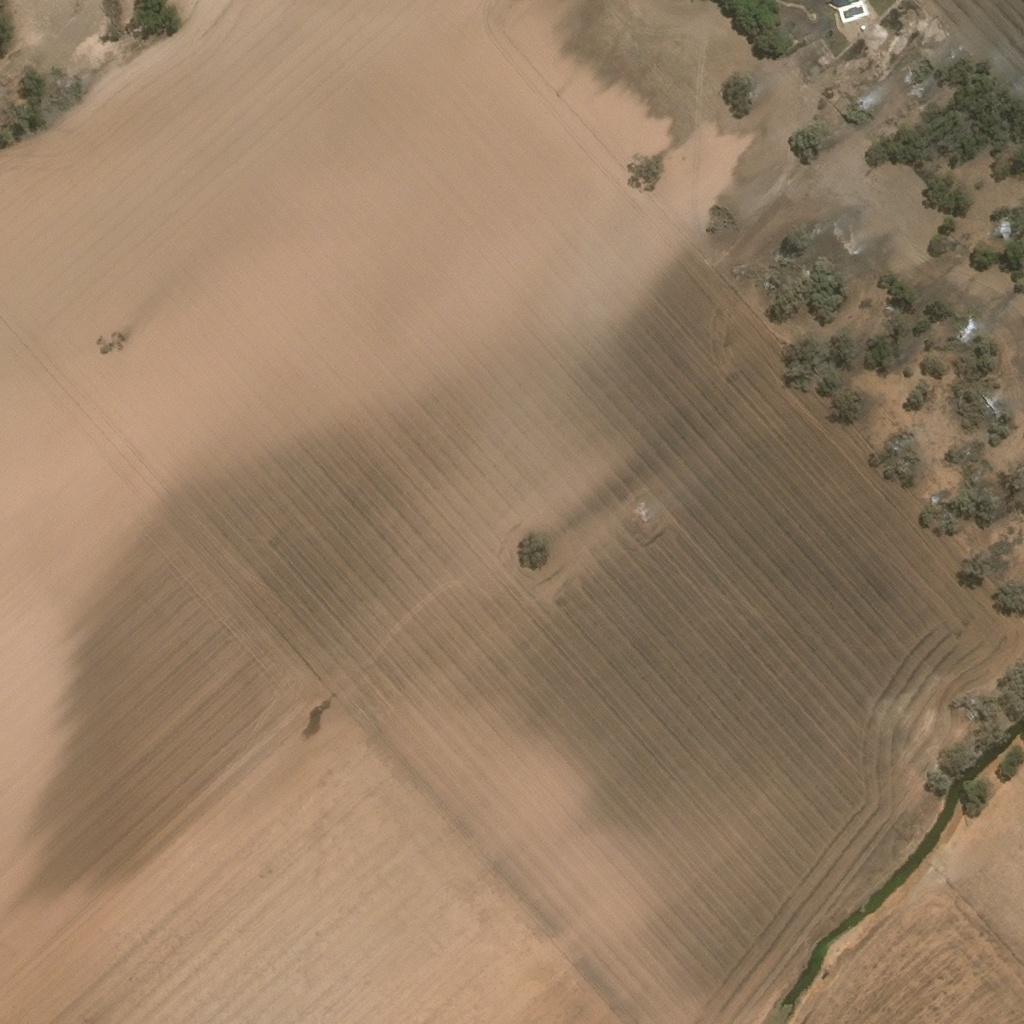0 no-damage: (860, 27, 865, 32)
4 un-classified: (829, 0, 859, 7)
